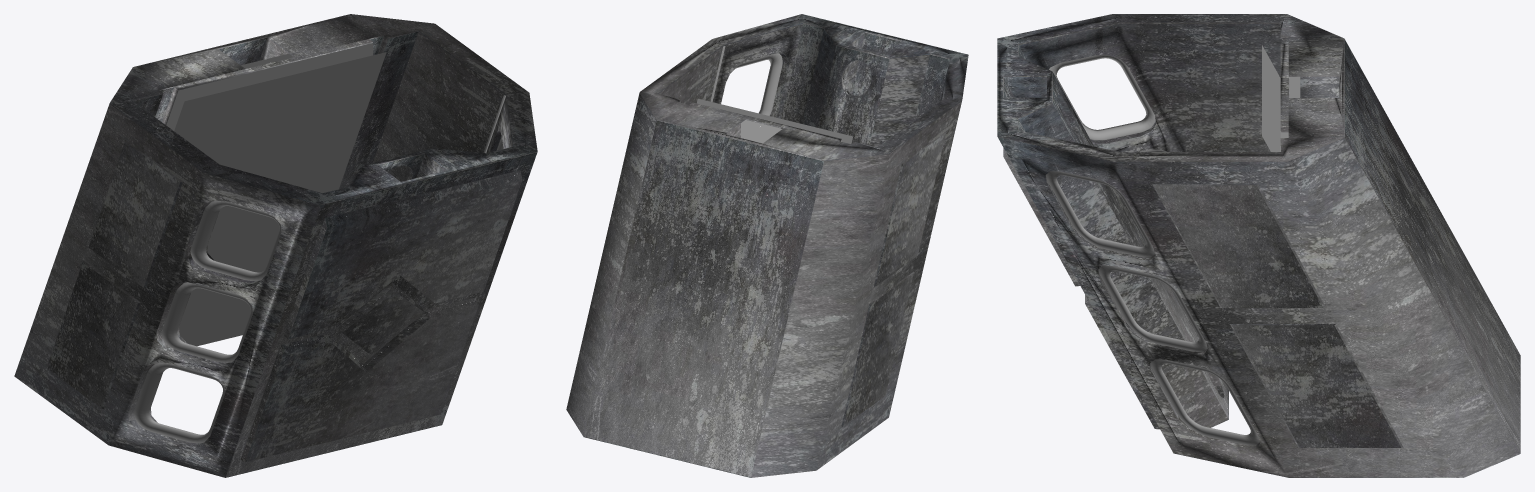
File: Corridor Stairs_LOD0.obj
3 renders of one model, left to right at view 1: azimuth 30°, elevation 25°; view 2: azimuth 150°, elevation 25°; view 3: azimuth 270°, elevation 25°, orthographic. The views are drawn at different scales.
Visible parts, largest first — view 1: Cylinder953, Plane48, Box1365, Box286, Box1364, Box1367, Box1363, Box1393, Rectangle120, Rectangle118, Rectangle119; view 2: Cylinder953, Box1364, Box1367, Plane48, Rectangle115, Box1393; view 3: Cylinder953, Box1375, Box1378, Rectangle117, Rectangle115, Rectangle116, Rectangle120, Plane48, Box1365, Box286.
Part boxes in pixels (x1,y1,x2,y2): Cylinder953: [14, 14, 537, 477]; Plane48: [174, 52, 386, 346]; Box1365: [283, 170, 522, 339]; Box286: [240, 297, 478, 462]; Box1364: [46, 260, 140, 409]; Box1367: [88, 140, 182, 288]; Box1363: [339, 282, 424, 354]; Box1393: [168, 43, 373, 126]; Rectangle120: [190, 200, 281, 281]; Rectangle118: [134, 362, 224, 443]; Rectangle119: [162, 282, 252, 362]; Cylinder953: [566, 14, 968, 477]; Box1364: [841, 272, 913, 427]; Box1367: [873, 132, 945, 287]; Plane48: [697, 98, 853, 143]; Rectangle115: [736, 53, 782, 115]; Box1393: [741, 120, 841, 143]; Cylinder953: [997, 14, 1520, 477]; Box1375: [1230, 324, 1403, 447]; Box1378: [1152, 184, 1325, 307]; Rectangle117: [1098, 265, 1207, 351]; Rectangle115: [1046, 171, 1154, 257]; Rectangle116: [1150, 359, 1259, 445]; Rectangle120: [1049, 55, 1155, 140]; Plane48: [1262, 45, 1280, 151]; Box1365: [1003, 148, 1079, 286]; Box286: [1085, 295, 1159, 429].
Size of the model in its own units: 39.38 by 39.41 by 58.89.
